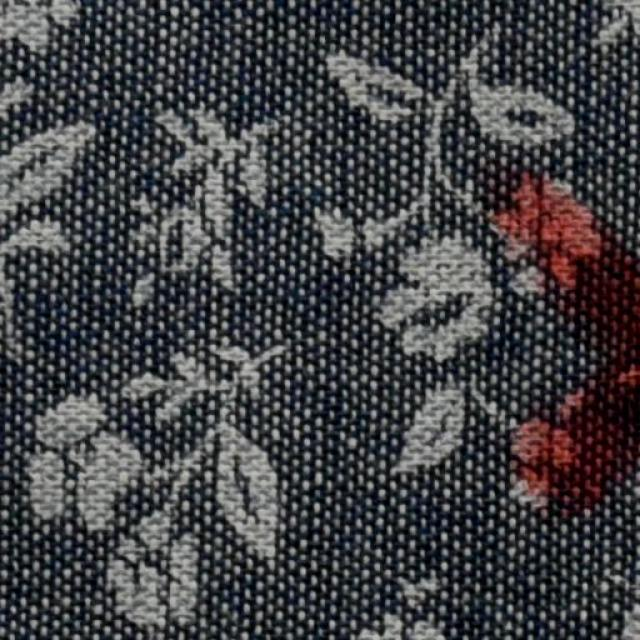Stain: (484, 177, 639, 515)
